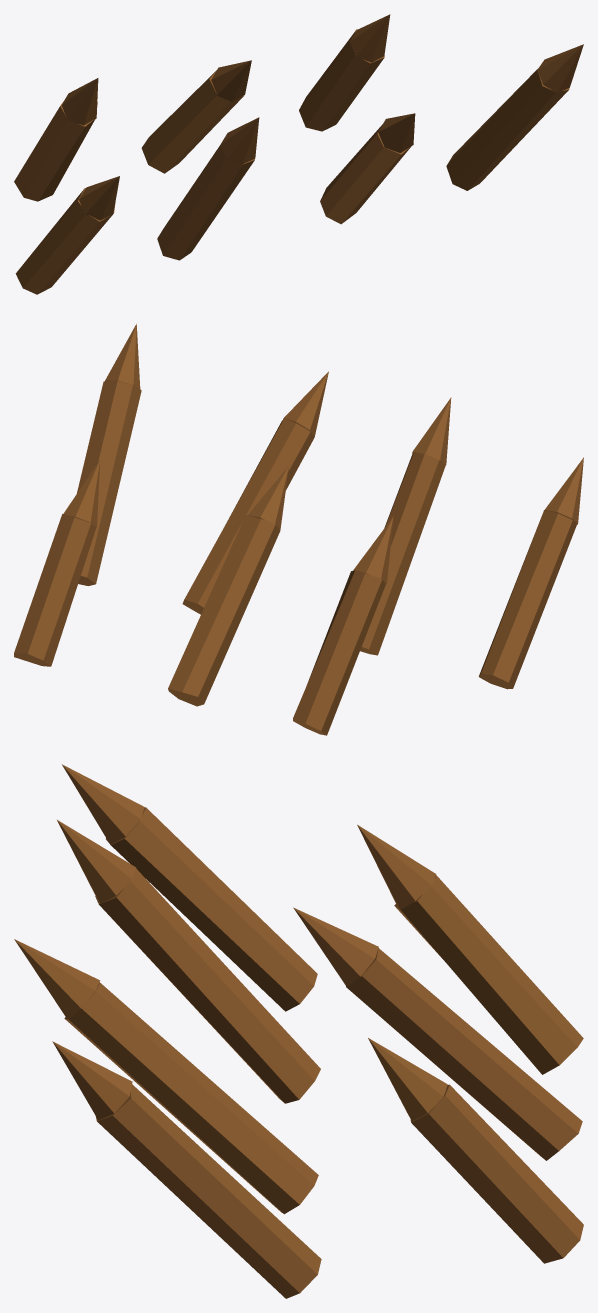
File: trenchStakes.glb
3 renders of one model, top to bottom at view 1: azimuth 30°, elevation 25°; view 2: azimuth 150°, elevation 25°; view 3: azimuth 270°, elevation 25°, orthographic. The views are drawn at different scales.
Visible parts, largest first — view 1: trenchStakes; view 2: trenchStakes; view 3: trenchStakes.
Part boxes in pixels (x1,y1,x2,y2): trenchStakes: (14,14,583,294); trenchStakes: (14,324,583,735); trenchStakes: (14,764,583,1298).
Bounding box in the file's own units: 0.822 × 0.335 × 0.6101.
